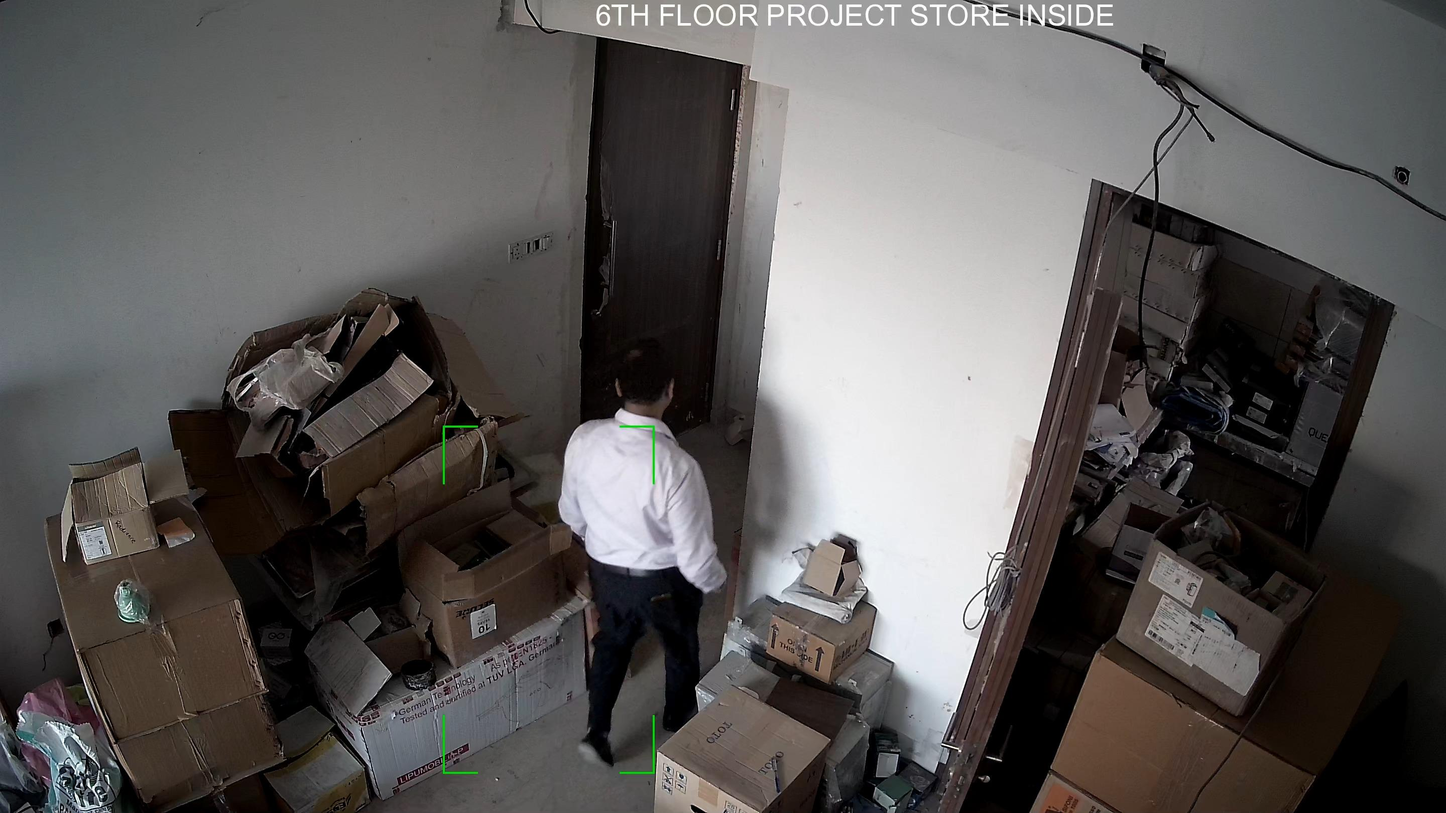Door-Close: (572, 33, 755, 460)
